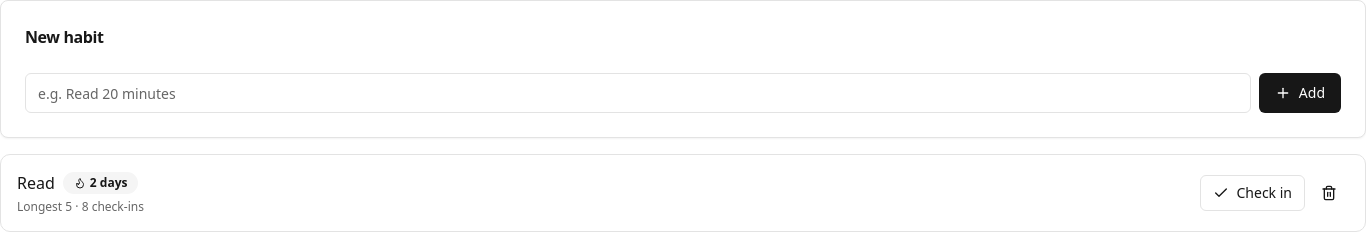
Test: HabitList › renders habits with their streaks and checks in on click
Check: the text "Read" is shown, box [17,171,55,195]
Check: the text "2 days" is shown, box [63,172,138,194]
Click the button with aria-label "Check in today" at (1252,193), box [1200,175,1305,211]
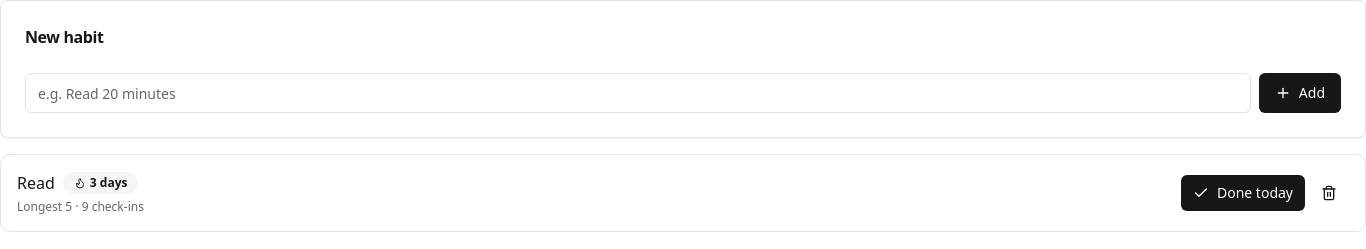
Check: the button "Done today" is shown, box [1181,175,1305,211]
